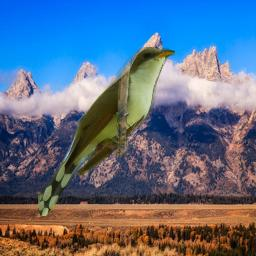Cuckoo: (38, 47, 175, 216)
